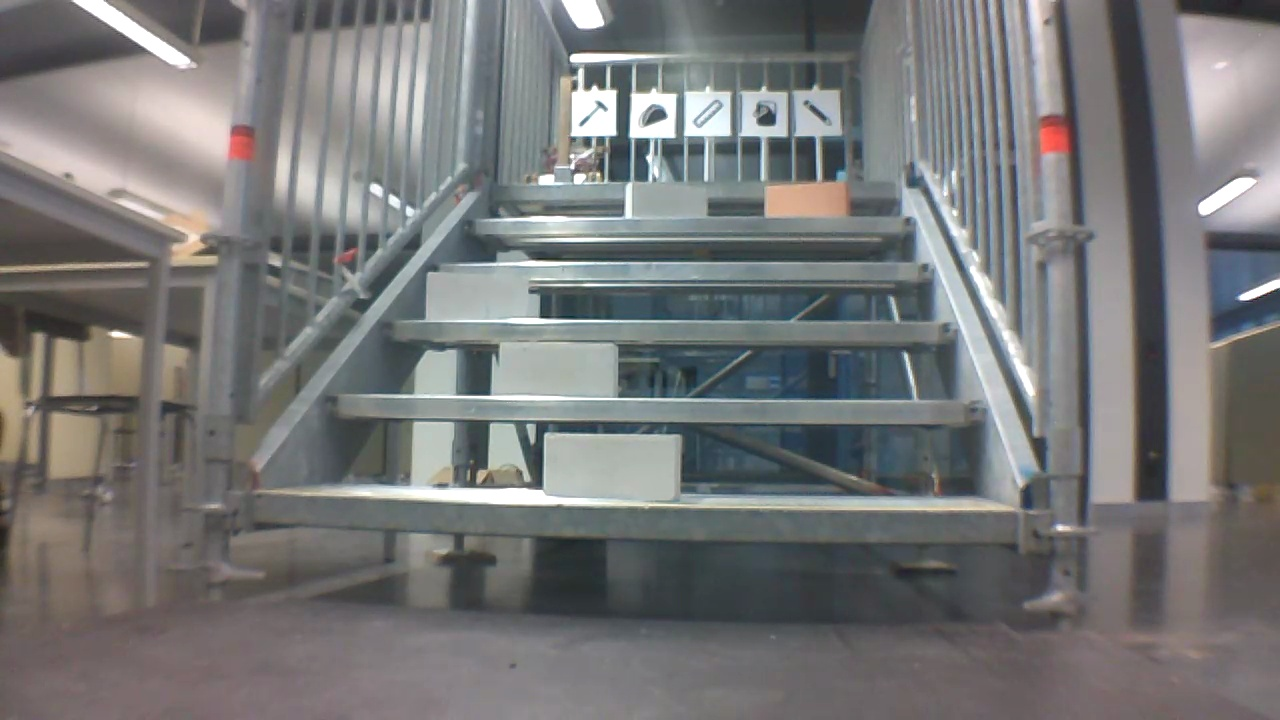brick: (543, 433, 681, 500), (501, 343, 616, 396), (425, 272, 527, 319), (764, 184, 847, 215), (626, 183, 706, 215)
bucket: (746, 98, 782, 130)
edge: (254, 494, 1016, 539), (326, 394, 982, 424), (386, 320, 957, 343), (433, 262, 936, 282), (468, 217, 923, 233), (495, 182, 896, 199)
hammer: (574, 99, 611, 130)
pencil: (797, 96, 838, 130)
ruler: (687, 97, 727, 131)
stairs: (194, 5, 1092, 632)
steps: (236, 176, 1024, 556)
taco: (634, 100, 671, 131)
